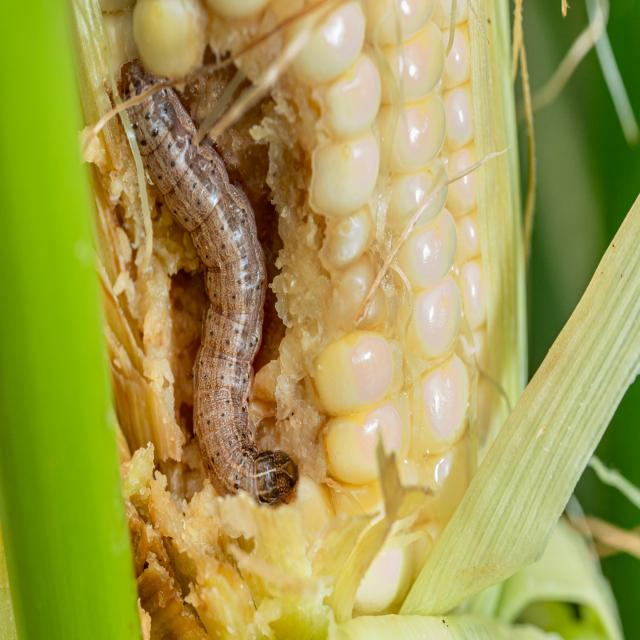cornborer-Larva-: (112, 52, 318, 519)
